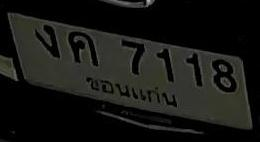number: (33, 22, 241, 94)
province: (82, 75, 180, 112)
